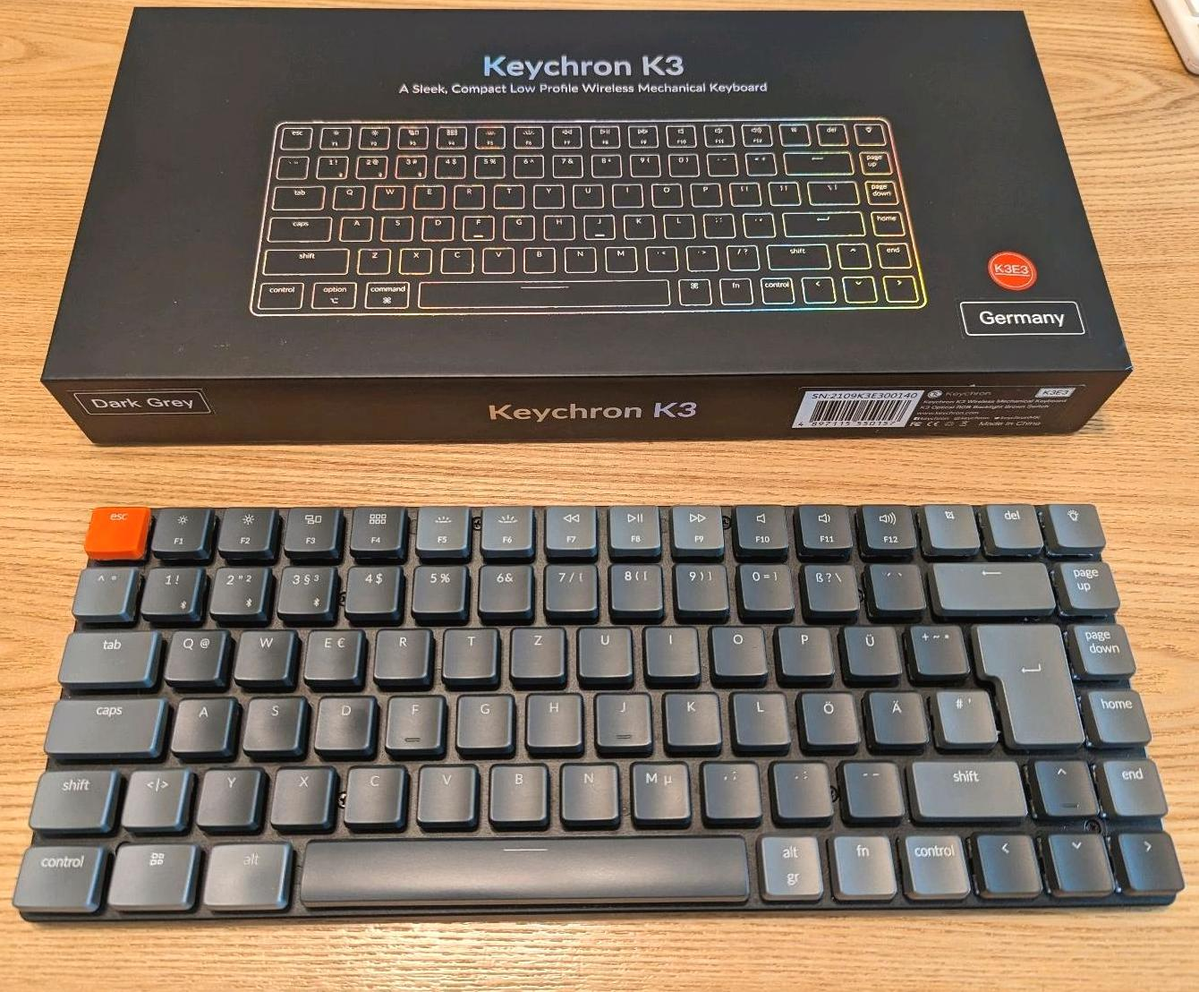0: (736, 560, 794, 610)
1: (139, 563, 199, 614)
2: (207, 563, 266, 614)
3: (275, 562, 333, 613)
4: (344, 562, 399, 612)
5: (410, 562, 466, 612)
6: (476, 565, 532, 615)
7: (542, 561, 597, 611)
8: (607, 560, 663, 611)
9: (672, 560, 727, 611)
a: (169, 692, 232, 751)
accent: (866, 560, 923, 610)
ae: (865, 687, 927, 743)
alt-left: (200, 838, 291, 907)
altgr-right: (757, 831, 822, 898)
b: (486, 759, 548, 821)
c: (341, 761, 403, 822)
caret: (69, 564, 132, 614)
comma: (698, 757, 760, 818)
d: (311, 691, 373, 749)
del: (929, 558, 1052, 610)
e: (303, 629, 365, 682)
enter: (971, 618, 1085, 745)
f: (382, 690, 442, 749)
g: (452, 689, 511, 747)
h: (522, 689, 582, 746)
hash: (932, 686, 995, 743)
i: (642, 622, 698, 676)
j: (591, 688, 650, 747)
k: (660, 688, 720, 745)
keyboard: (10, 494, 1192, 926), (240, 107, 936, 322)
l: (729, 688, 788, 744)
less: (118, 764, 187, 826)
m: (627, 757, 689, 819)
minus: (838, 757, 902, 816)
n: (557, 758, 618, 820)
o: (708, 621, 767, 675)
oe: (798, 687, 858, 744)
p: (776, 622, 834, 675)
plus: (907, 620, 966, 674)
point: (769, 757, 832, 817)
q: (161, 626, 225, 680)
r: (371, 625, 429, 678)
s: (240, 692, 302, 750)
shift-left: (25, 764, 115, 829)
shift-lock: (40, 694, 162, 753)
shift-right: (907, 756, 1026, 817)
space: (293, 831, 753, 903)
ss: (801, 560, 858, 611)
strg-left: (10, 840, 103, 909)
strg-right: (901, 829, 970, 895)
t: (440, 624, 496, 678)
tab: (55, 627, 156, 681)
u: (574, 622, 633, 677)
ue: (841, 621, 901, 676)
v: (414, 760, 476, 822)
w: (231, 625, 292, 680)
x: (268, 762, 332, 825)
y: (193, 763, 259, 825)
z: (507, 623, 564, 677)
